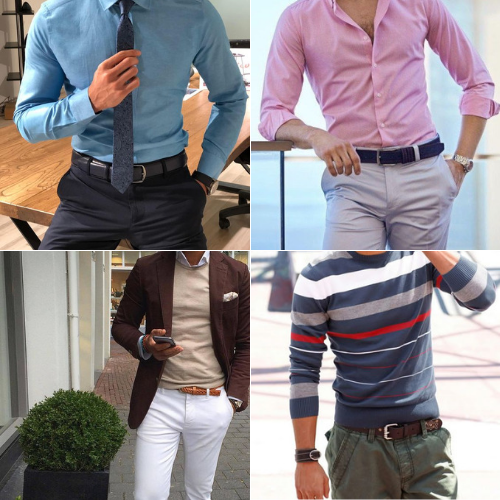F_M_suit jacket: (116, 252, 249, 426)
F_belt: (347, 128, 444, 172), (155, 372, 252, 413), (62, 151, 188, 176), (359, 413, 450, 443)
F_shirt: (10, 2, 247, 159), (263, 1, 492, 153)
F_tie: (111, 1, 144, 189)
